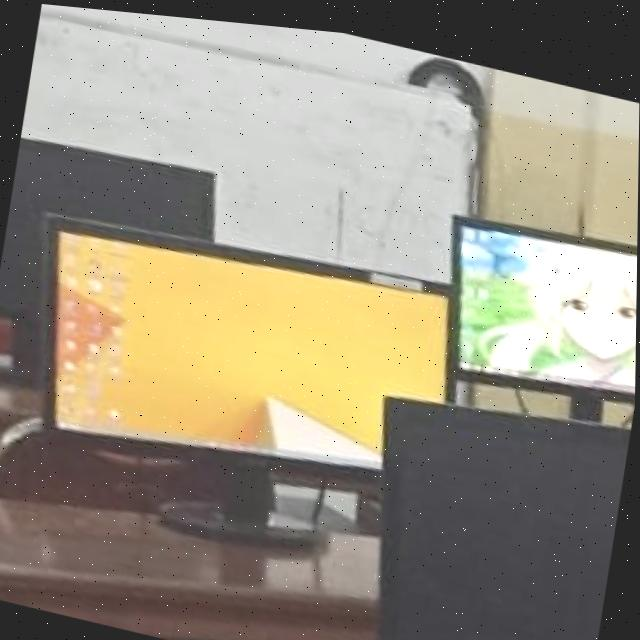offscreen: (383, 392, 628, 640), (0, 139, 213, 311)
onscreen: (56, 230, 449, 444), (459, 208, 638, 381)
